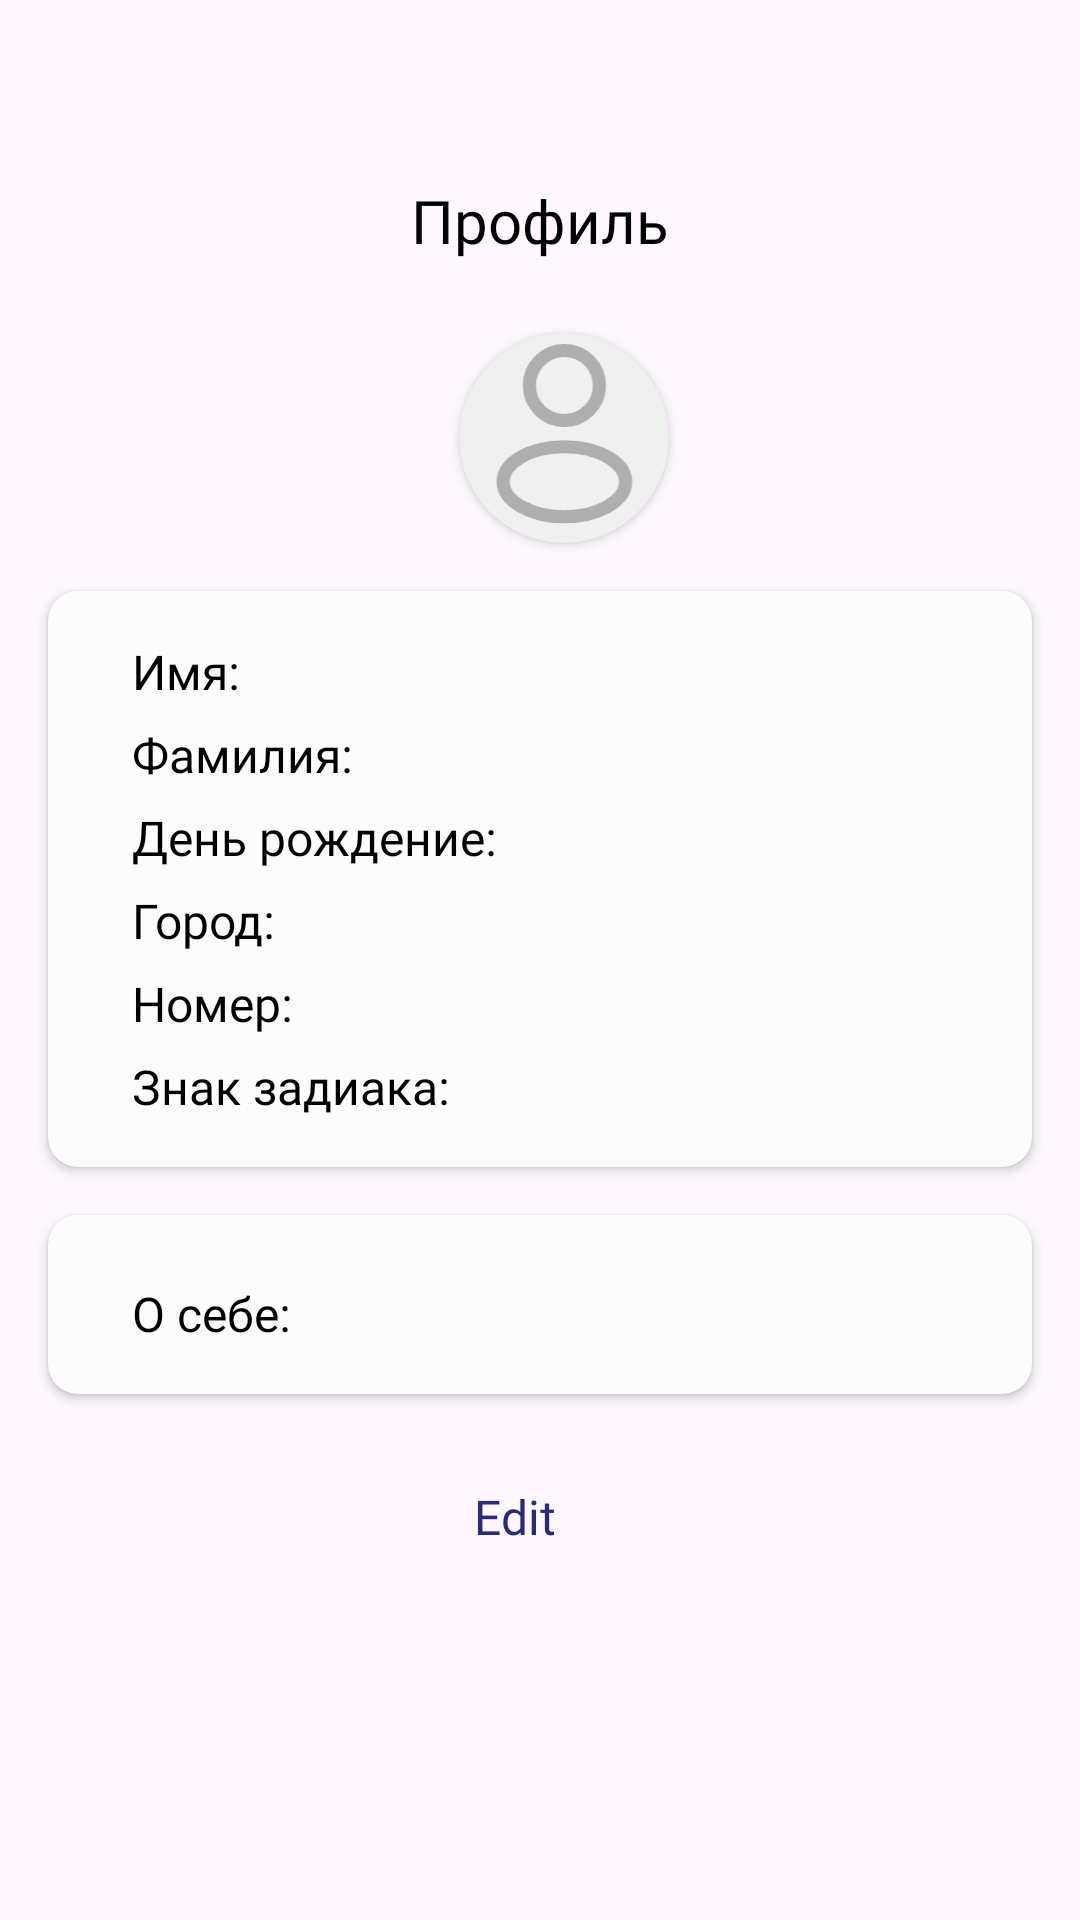

Icons on this 1080px x 1920px Android screen, each with its box as (x1, y1, x2, y2):
profile: (459, 333, 669, 543)
